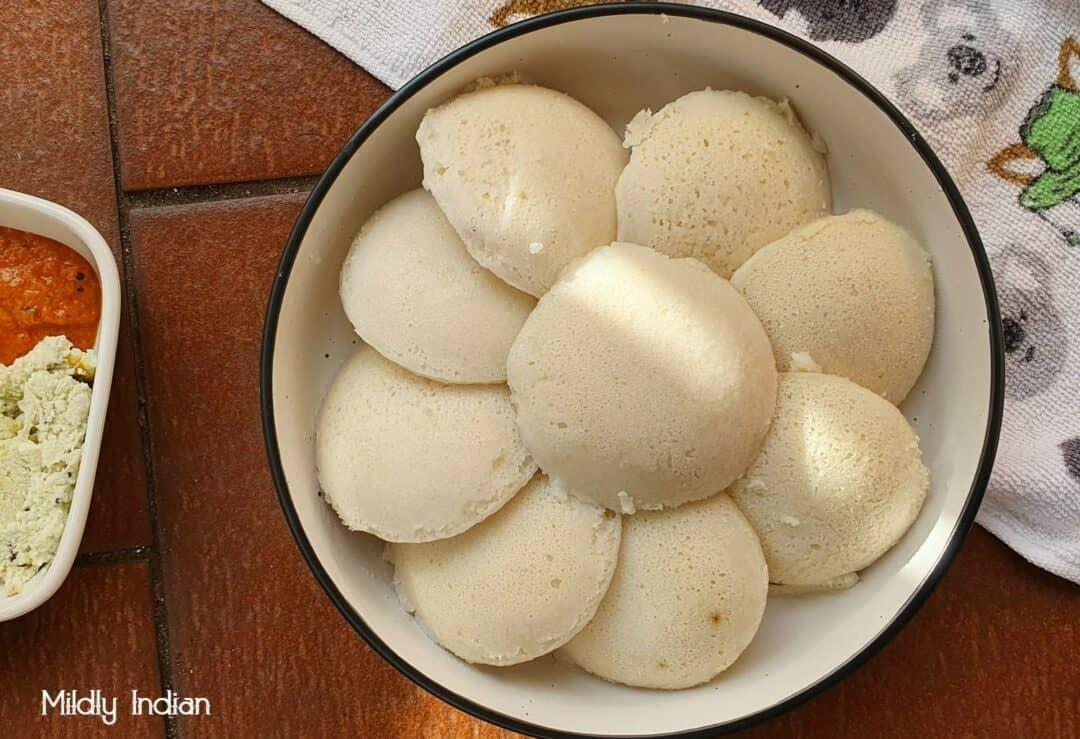coconut chutney: (0, 353, 109, 583)
idli: (361, 133, 916, 649)
